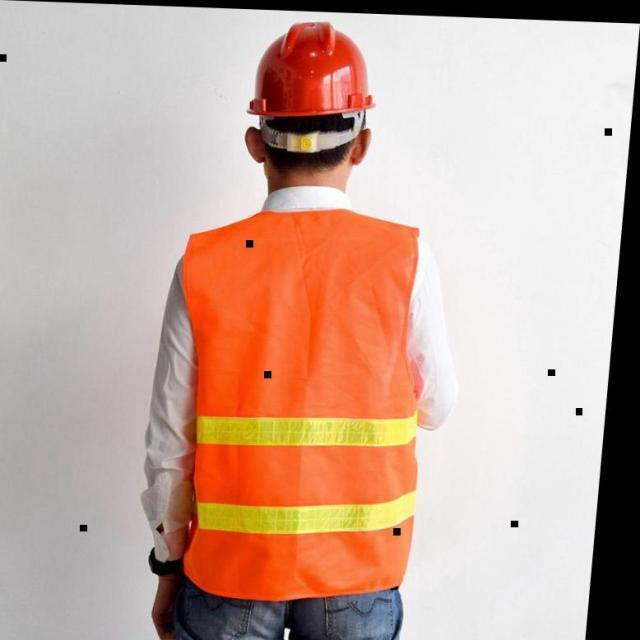safety_helmet: (179, 209, 430, 605)
